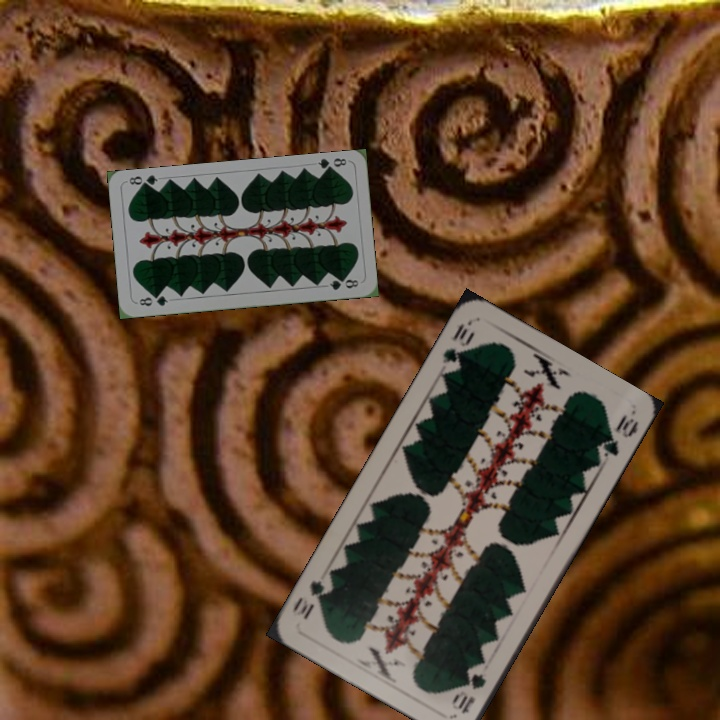G10: (438, 319, 478, 376), (454, 669, 489, 717)
G8: (314, 154, 349, 175), (135, 291, 170, 309)
